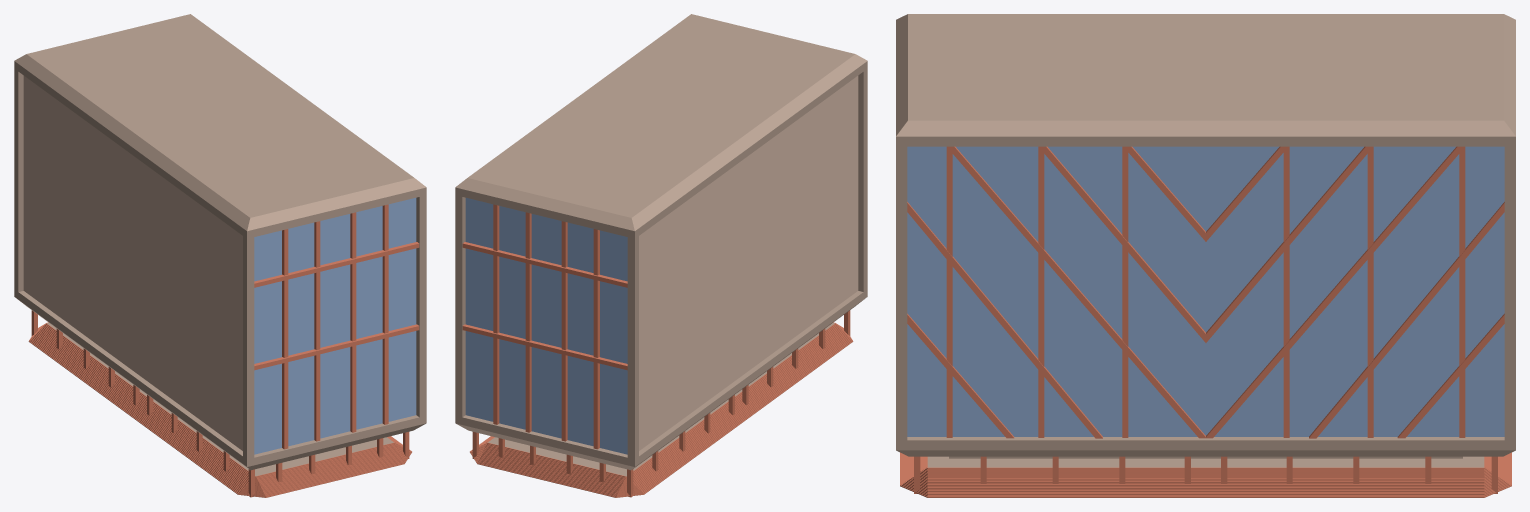
Rendered from University_interior.fbx.
3 views of the same model, side by side, from view 1: azimuth 30°, elevation 25°; view 2: azimuth 150°, elevation 25°; view 3: azimuth 270°, elevation 25° (orthographic). The views are drawn at different scales.
Visible parts, largest first — view 1: Cube.061, Cube.060; view 2: Cube.061, Cube.060; view 3: Cube.061, Cube.060.
Part boxes in pixels (<box>): Cube.061: <box>14,14,426,497</box>; Cube.060: <box>31,204,419,497</box>; Cube.061: <box>455,14,867,497</box>; Cube.060: <box>462,204,850,497</box>; Cube.061: <box>896,14,1515,497</box>; Cube.060: <box>907,146,1504,493</box>.
Size of the model in its own units: 2539 by 3806 by 5698.
